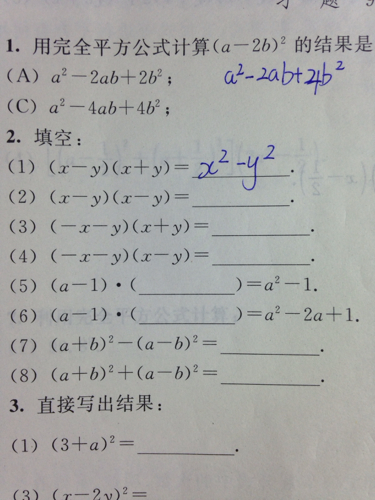square: (261, 141, 278, 161), (216, 147, 229, 165), (278, 32, 289, 50), (333, 59, 346, 73), (105, 332, 117, 347), (151, 96, 163, 110), (234, 60, 244, 76), (57, 94, 67, 110), (272, 304, 284, 317), (106, 364, 117, 376), (117, 485, 128, 497), (59, 66, 68, 79), (273, 273, 281, 286), (108, 431, 115, 445), (191, 363, 200, 373), (156, 68, 164, 78), (191, 334, 198, 344)
